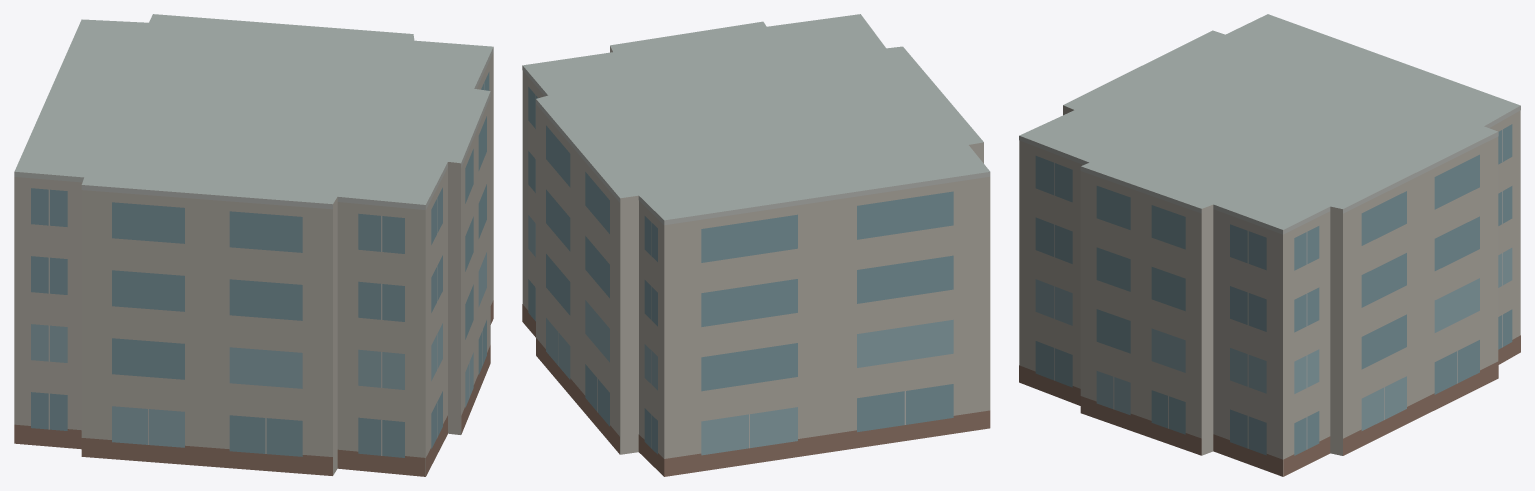
Rendered from survey-upis-32708222.glb.
3 renders of one model, left to right at view 1: azimuth 30°, elevation 25°; view 2: azimuth 150°, elevation 25°; view 3: azimuth 270°, elevation 25°, orthographic. The views are drawn at different scales.
Parts seen in each view (by area): view 1: survey-upis-32708222.tmp; view 2: survey-upis-32708222.tmp; view 3: survey-upis-32708222.tmp.
Part boxes in pixels (bbox=[...]): survey-upis-32708222.tmp: bbox=[14, 14, 493, 476]; survey-upis-32708222.tmp: bbox=[522, 14, 990, 476]; survey-upis-32708222.tmp: bbox=[1019, 14, 1520, 476].
Size of the model in its own units: 24.03 by 12.8 by 23.57.
